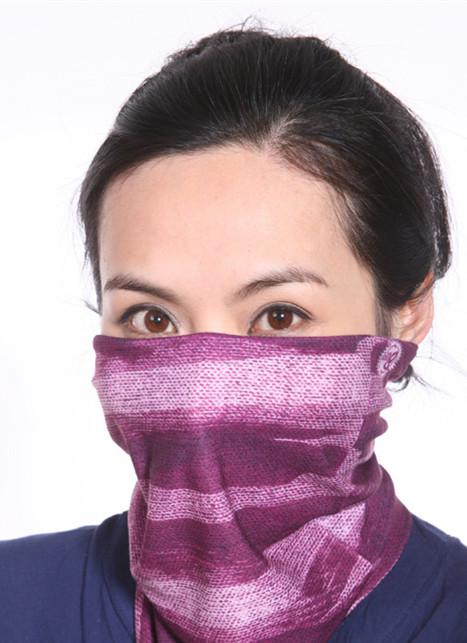OK: (88, 238, 369, 519)
